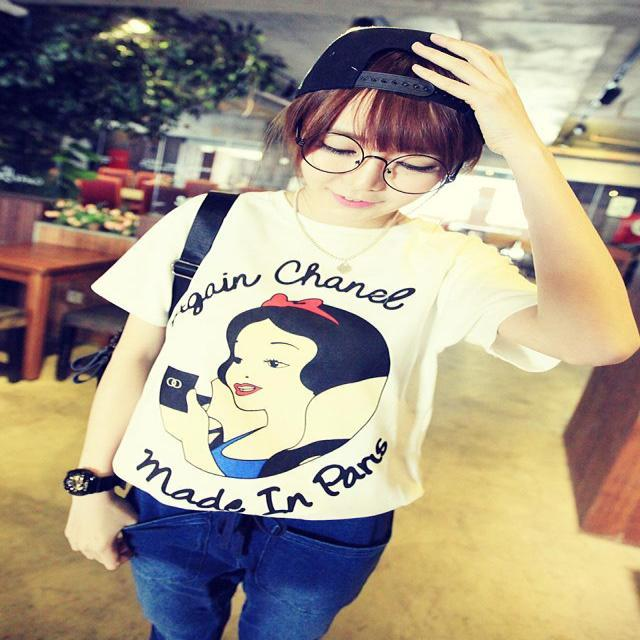short sleeve top: (92, 191, 555, 517)
trousers: (133, 465, 390, 639)
